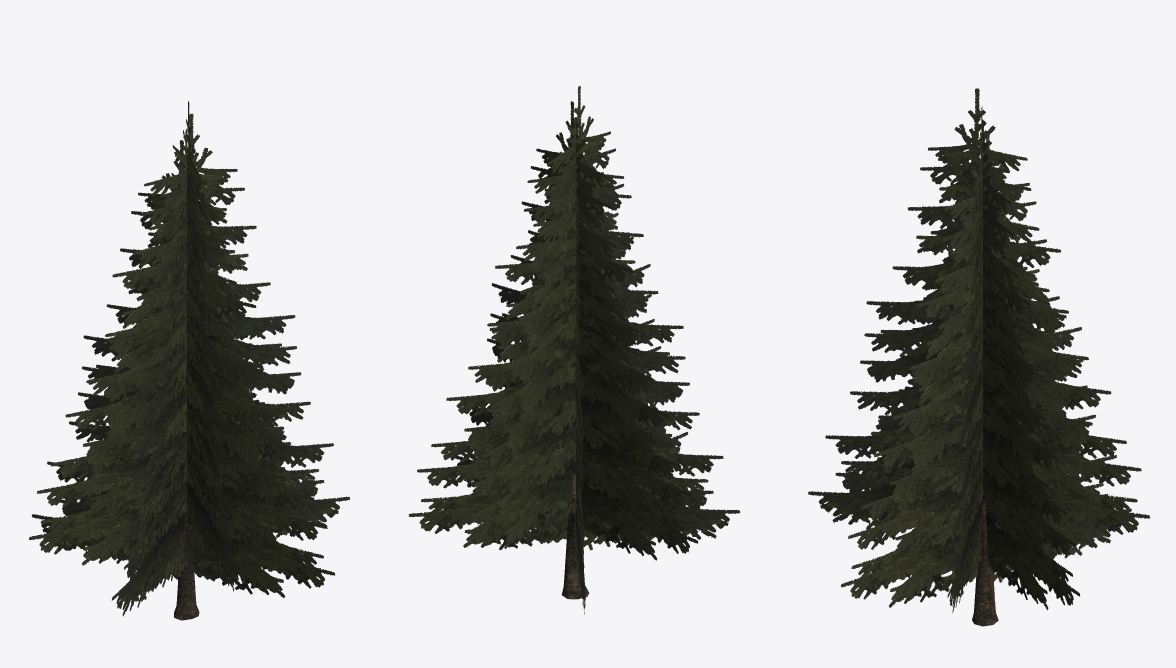
The model's file is tree_rt_3.dae.
The picture shows the model from 3 angles, left to right: view 1: azimuth 30°, elevation 25°; view 2: azimuth 150°, elevation 25°; view 3: azimuth 270°, elevation 25°; orthographic projection. The views are drawn at different scales.
Visible parts, largest first — view 1: tree_rt_3; view 2: tree_rt_3; view 3: tree_rt_3.
Part boxes in pixels (<box>): tree_rt_3: <box>29,101,349,620</box>; tree_rt_3: <box>408,86,740,614</box>; tree_rt_3: <box>808,88,1149,626</box>.
Size of the model in its own units: 2.43 by 2.43 by 3.93.
Materials: 2 (2 with a texture image).
